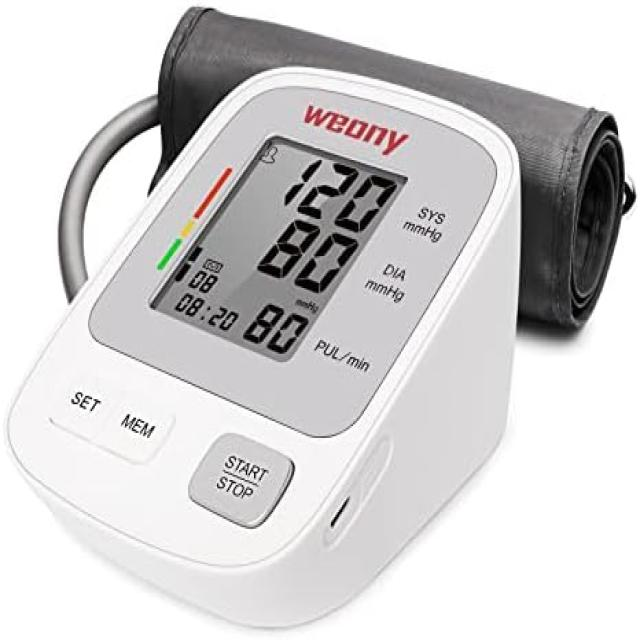dia: (242, 200, 362, 307)
pul: (229, 285, 317, 367)
ssd: (149, 99, 406, 387)
sys: (275, 145, 405, 246)
